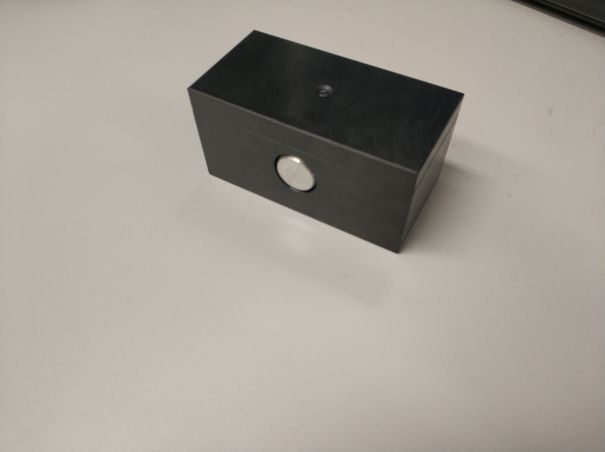black+black+silver: (179, 25, 469, 261)
